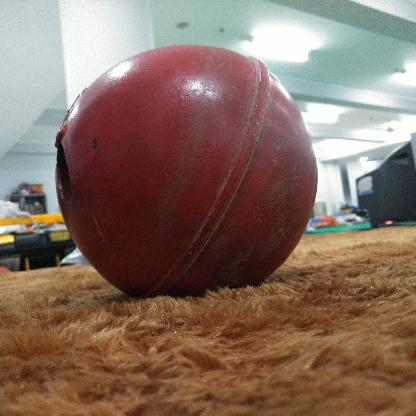red_buoy: (53, 43, 325, 294)
